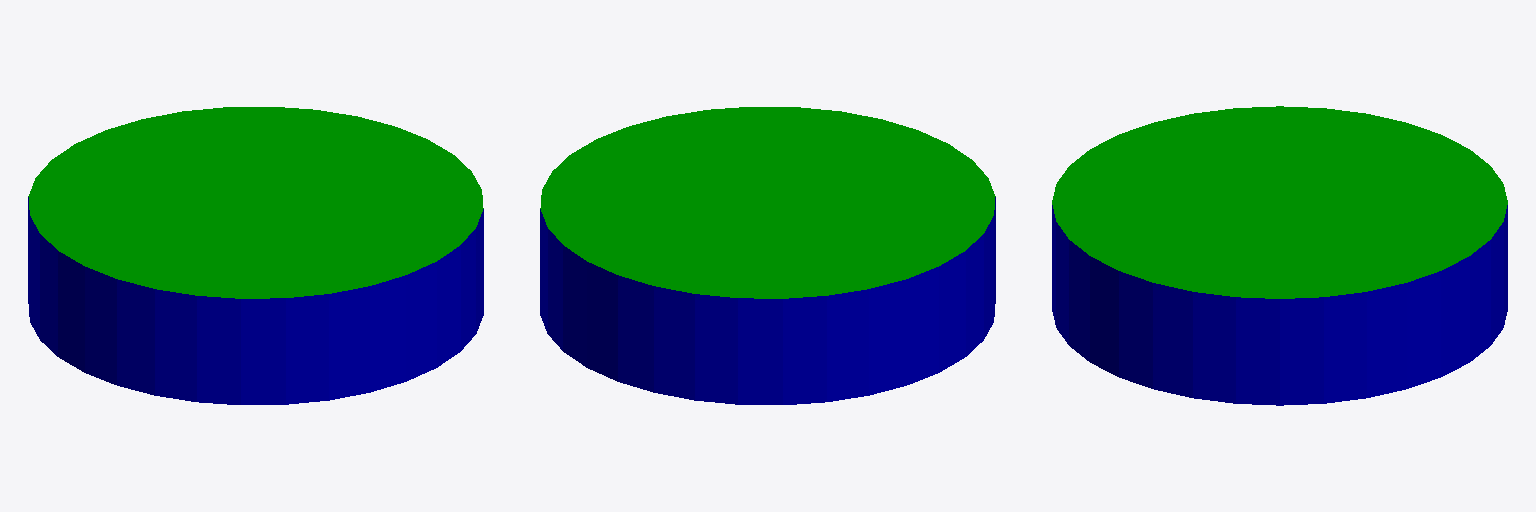
Rendered from cilindro.obj.
The picture shows the model from 3 angles: view 1: azimuth 30°, elevation 25°; view 2: azimuth 150°, elevation 25°; view 3: azimuth 270°, elevation 25°; orthographic projection.
Parts seen in each view (by area): view 1: Cylinder; view 2: Cylinder; view 3: Cylinder.
Boxes of the visible parts, <box> form: Cylinder: <box>28,107,483,404</box>; Cylinder: <box>540,107,995,404</box>; Cylinder: <box>1052,106,1507,405</box>.
Size of the model in its own units: 5 by 1.29 by 5.